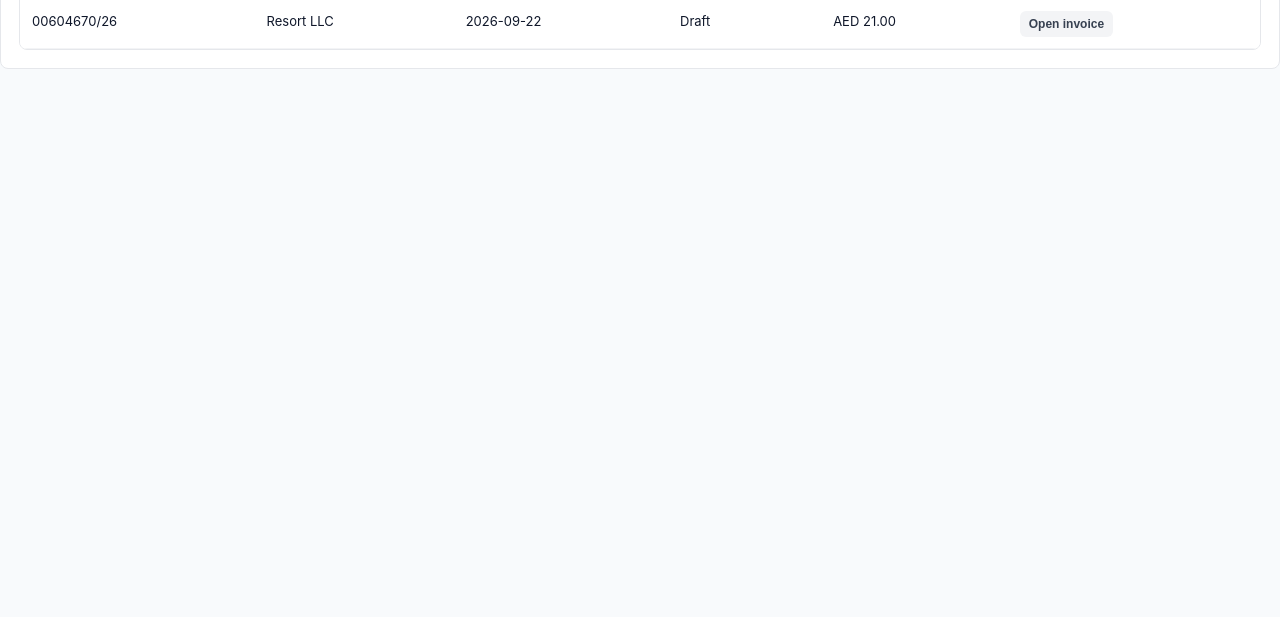
Scenario: save failure keeps the entered values available for correction
Click the button "Open invoice" at [1066, 24], box top-left (1020, 11), bottom-right (1113, 37)
(page scrolled)
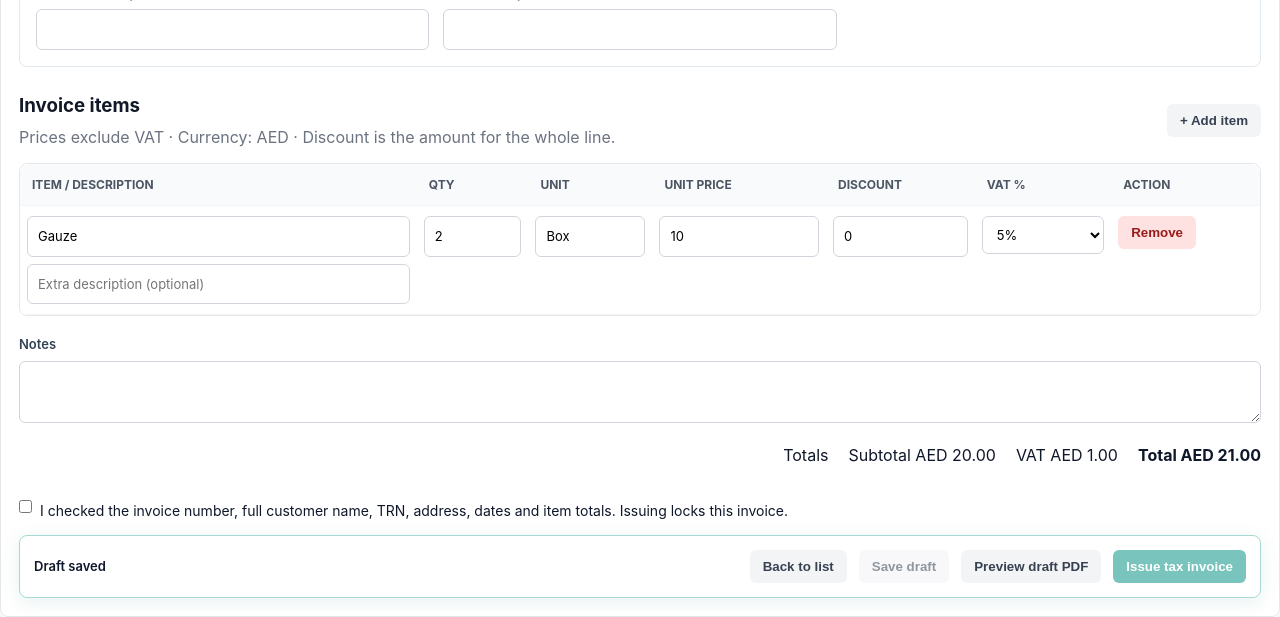
Result: the number field named "Unit price 1" is shown
Replace the text in the number field named "Unit price 1" with "99" at [739, 236], box top-left (659, 216), bottom-right (819, 257)
(page scrolled)
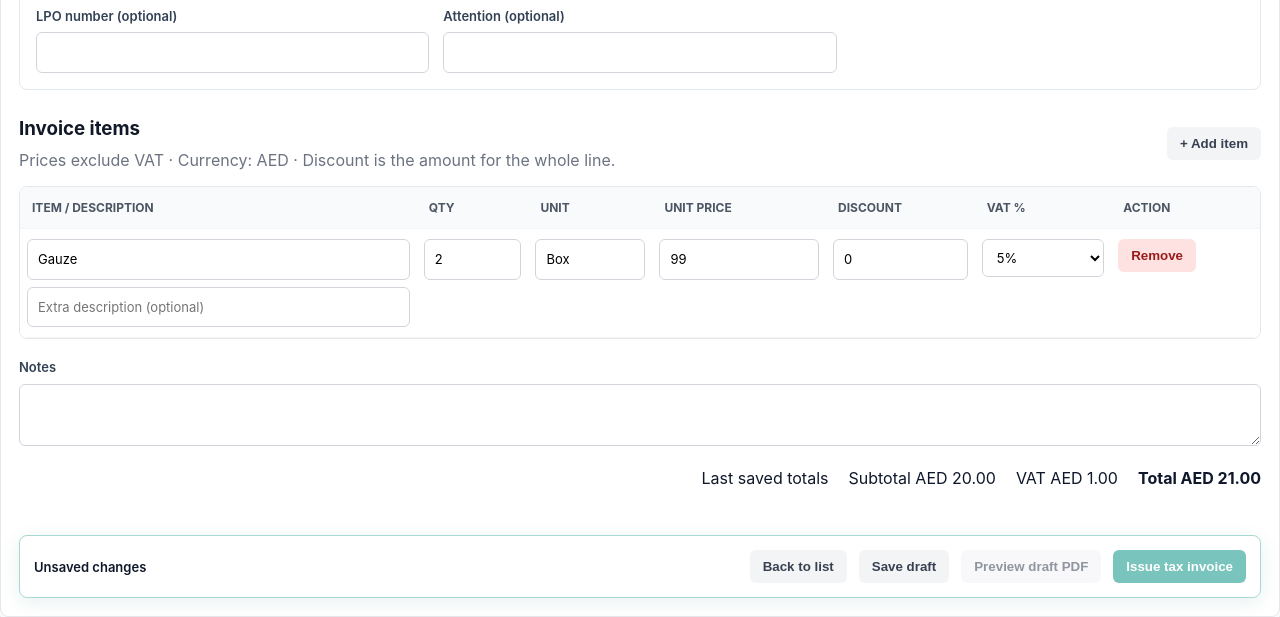
Click the button "Save draft" at [904, 567], box top-left (859, 550), bottom-right (949, 584)
(page scrolled)
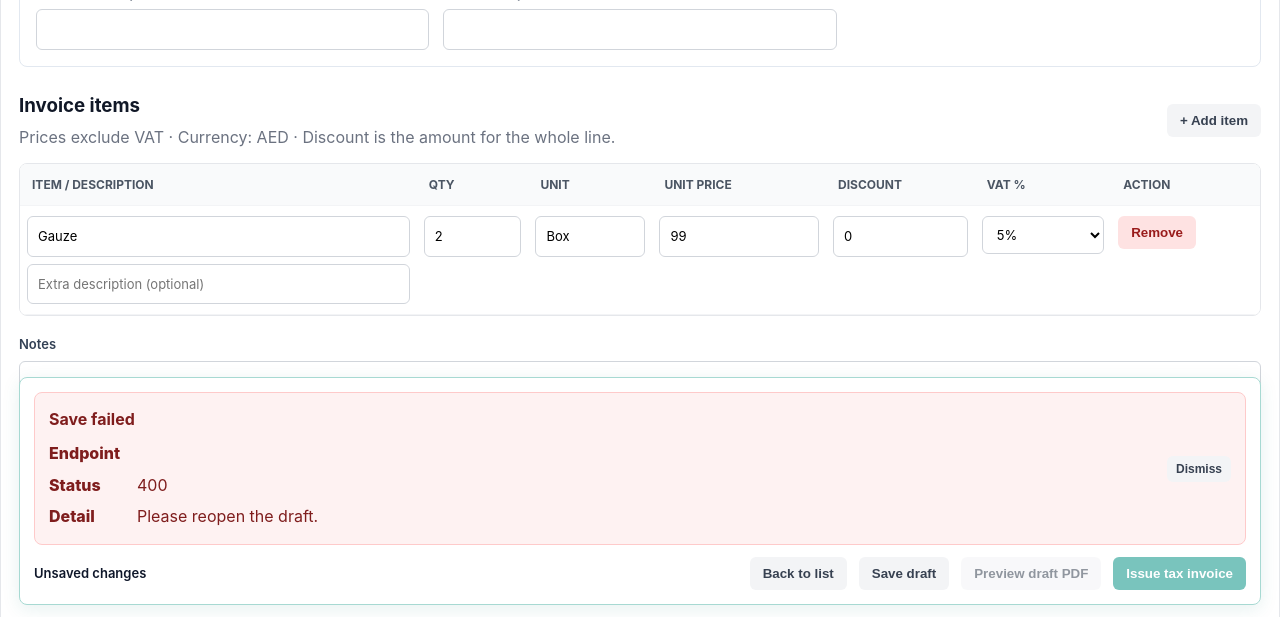
Result: the button "Issue tax invoice" is disabled at top-left (1113, 557), bottom-right (1246, 590)
Result: the text "Please reopen the draft." is shown at top-left (137, 504), bottom-right (318, 530)
